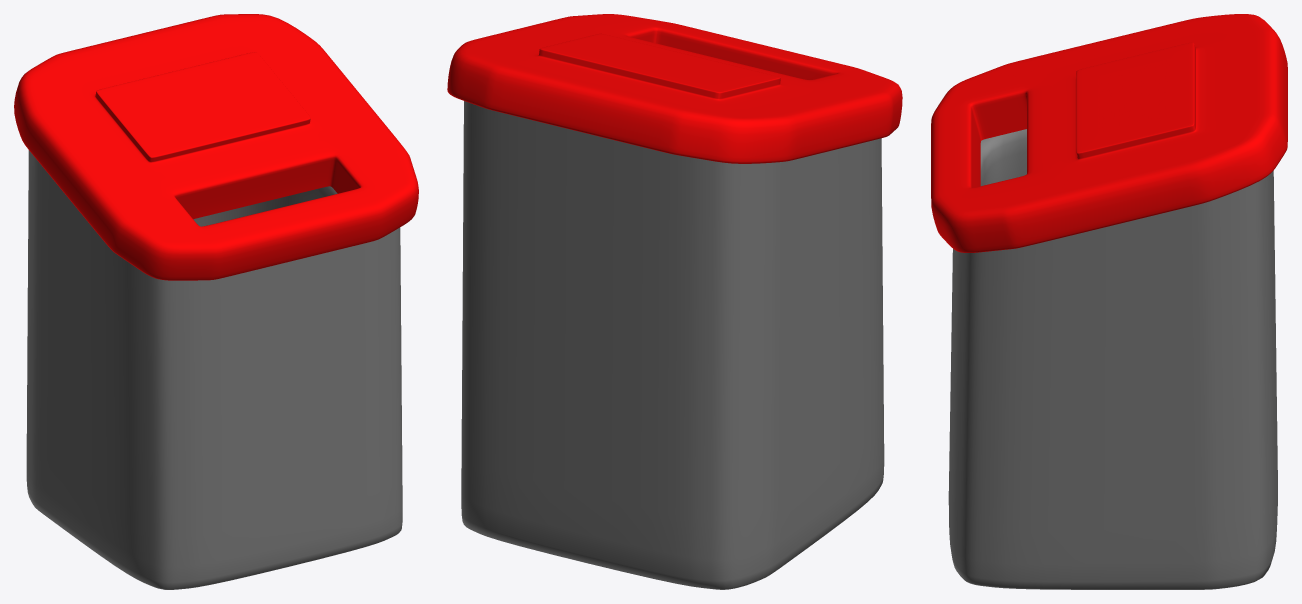
File: New_Bin_Model.fbx
3 renders of one model, left to right at view 1: azimuth 30°, elevation 25°; view 2: azimuth 150°, elevation 25°; view 3: azimuth 270°, elevation 25°, orthographic. The views are drawn at different scales.
Visible parts, largest first — view 1: High_Canteen_Bin; view 2: High_Canteen_Bin; view 3: High_Canteen_Bin.
Boxes of the visible parts, x1,y1,x2,y2 form: High_Canteen_Bin: (14,14,418,589); High_Canteen_Bin: (447,14,902,589); High_Canteen_Bin: (931,14,1287,589).
Size of the model in its own units: 43.97 by 60.16 by 43.13.
